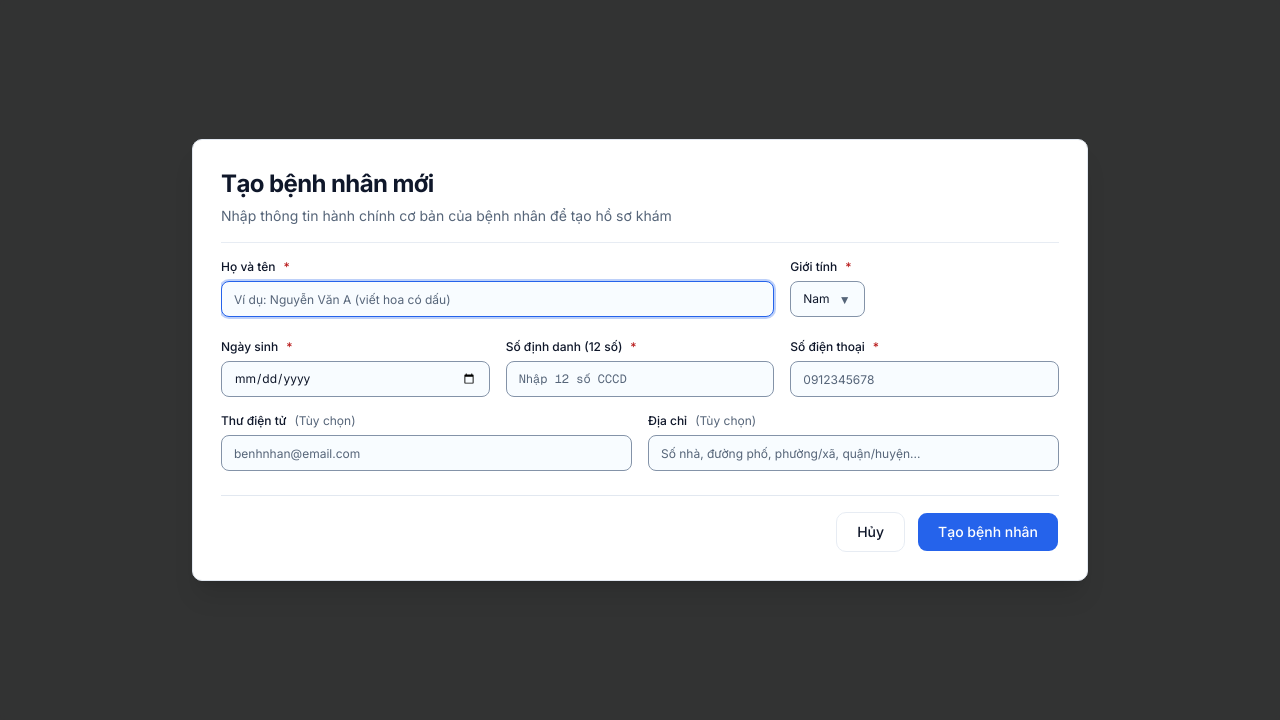
Test: Patients Module & Workflows › validates required fields in CreatePatientDialog
Check: the heading "Tạo bệnh nhân mới" is shown, box [221,169,434,198]
Click the button "Tạo bệnh nhân".
click(988, 532)  # box [917,512,1059,552]
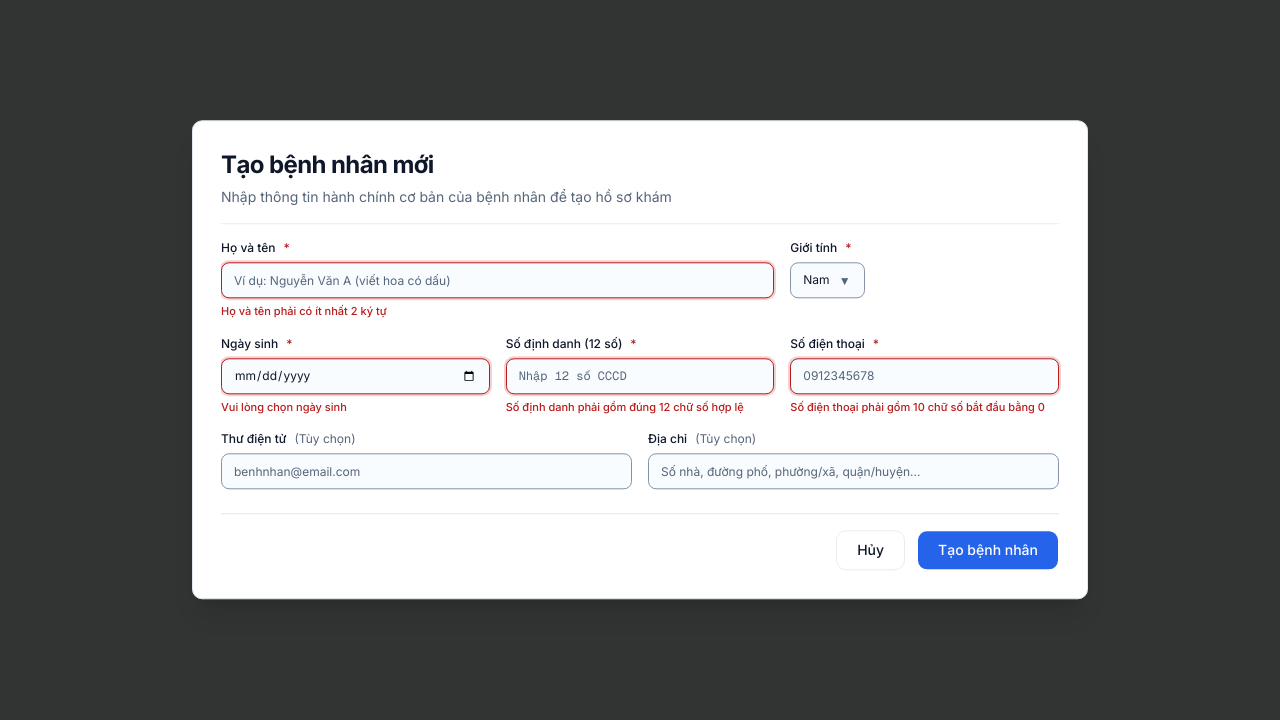
Check: the text "Họ và tên phải có ít nhất 2 ký tự" is shown, box [221,304,387,318]
